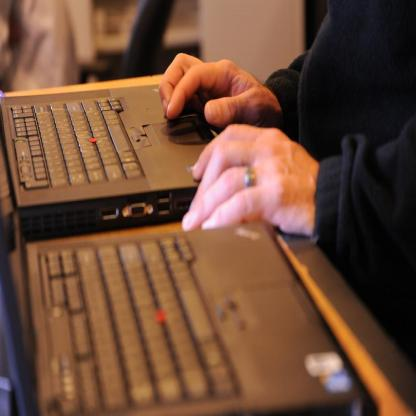board: (0, 135, 356, 415), (0, 85, 214, 236)
